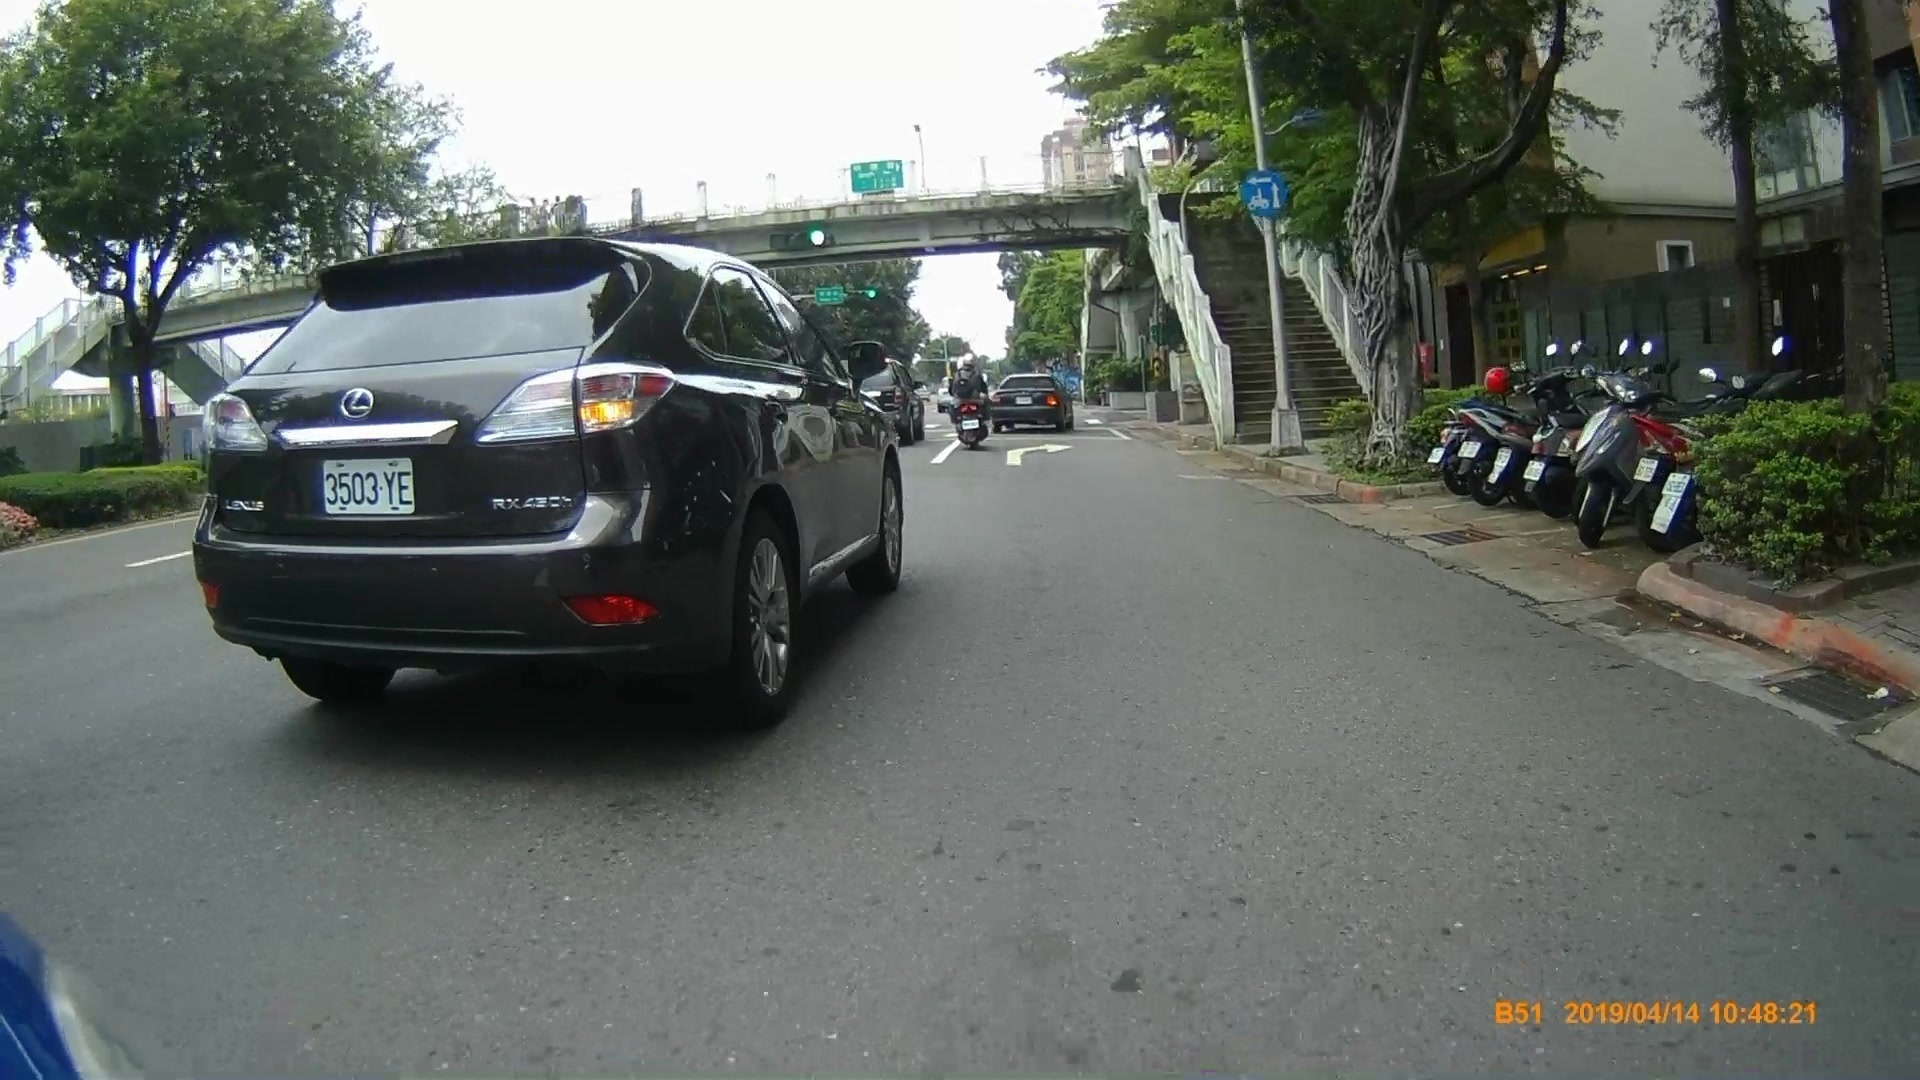License_plate: (322, 456, 415, 514)
